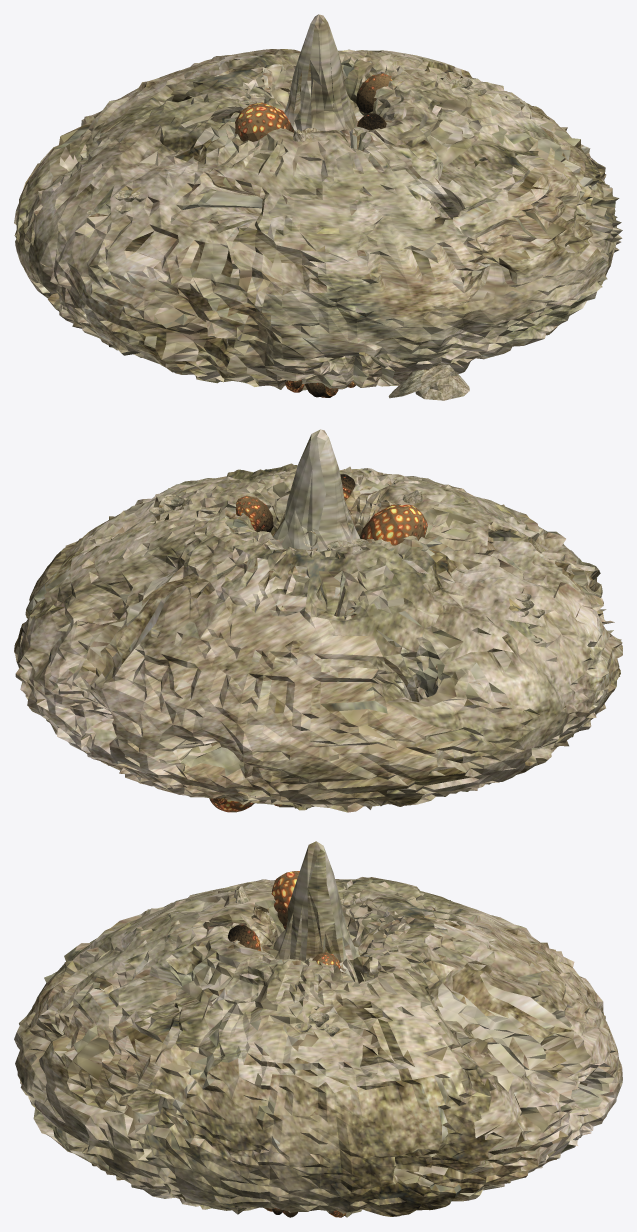
File: alien_chamber.obj
3 views of the same model, one above another, from view 1: azimuth 30°, elevation 25°; view 2: azimuth 150°, elevation 25°; view 3: azimuth 270°, elevation 25° (orthographic).
Visible parts, largest first — view 1: cave_low, egg_low, peni_low08, peni_low06, egg_low26; view 2: cave_low, egg_low, egg_low26; view 3: cave_low, egg_low, egg_low27.
Part boxes in pixels (x1,y1,x2,y2): cave_low: (14,14,622,390); egg_low: (235,102,294,141); peni_low08: (388,364,458,398); peni_low06: (415,374,469,400); egg_low26: (356,73,392,113); cave_low: (14,429,622,812); egg_low: (360,504,427,545); egg_low26: (235,495,273,532); cave_low: (14,841,622,1217); egg_low: (271,871,299,929); egg_low27: (228,925,260,951).
Bounding box in the file's own units: 132 × 87.36 × 131.
